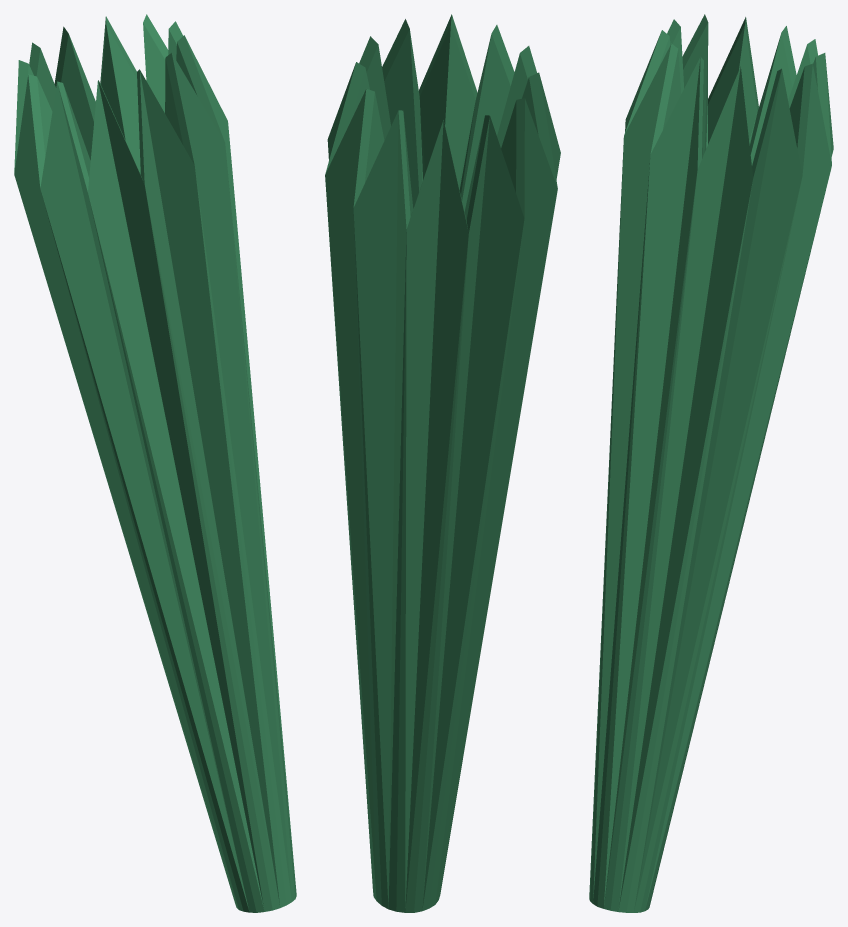
Rendered from kitchen-Material.001.obj.
3 renders of one model, left to right at view 1: azimuth 30°, elevation 25°; view 2: azimuth 150°, elevation 25°; view 3: azimuth 270°, elevation 25°, orthographic. The views are drawn at different scales.
Visible parts, largest first — view 1: umbrellastand_Cylinder.021; view 2: umbrellastand_Cylinder.021; view 3: umbrellastand_Cylinder.021.
Boxes of the visible parts, x1=… form: umbrellastand_Cylinder.021: x1=14, y1=14, x2=296, y2=912; umbrellastand_Cylinder.021: x1=325, y1=14, x2=560, y2=912; umbrellastand_Cylinder.021: x1=589, y1=14, x2=833, y2=912.
Size of the model in its own units: 0.552 by 2.14 by 0.571.
Materials: 1 (1 with a texture image).
